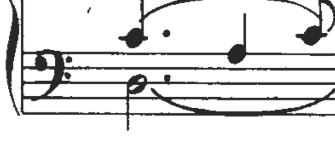bass_clef: (29, 43, 75, 107)
